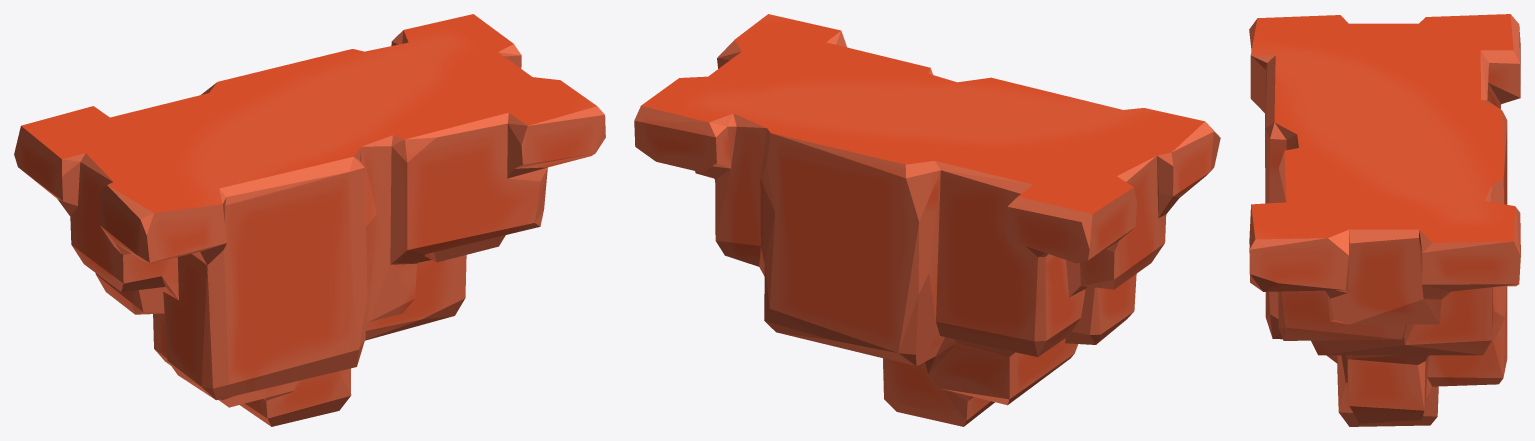
Rendered from Platform_2_4.fbx.
The picture shows the model from 3 angles, left to right: view 1: azimuth 30°, elevation 25°; view 2: azimuth 150°, elevation 25°; view 3: azimuth 270°, elevation 25°; orthographic projection. The views are drawn at different scales.
Visible parts, largest first — view 1: Cube.041; view 2: Cube.041; view 3: Cube.041.
Part boxes in pixels (box(x1,y1,x2,y2)): Cube.041: box(14, 14, 605, 426); Cube.041: box(634, 14, 1220, 426); Cube.041: box(1249, 14, 1520, 426).
Bounding box in the file's own units: 400 × 238 × 200.
